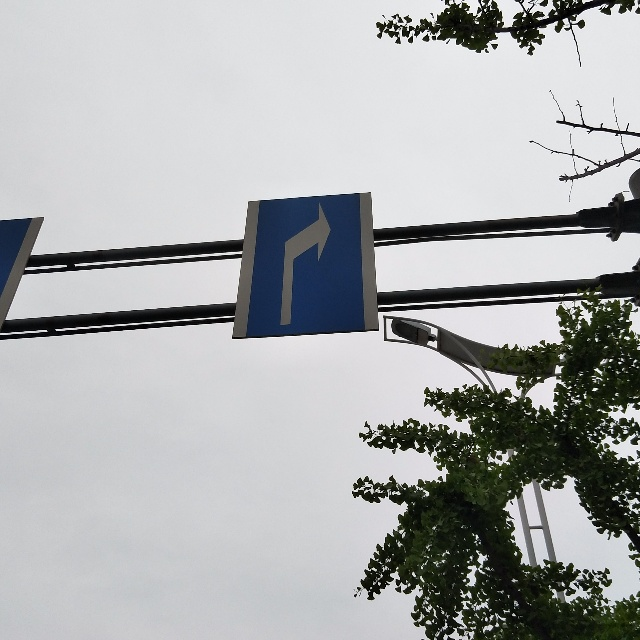right: (257, 190, 355, 329)
